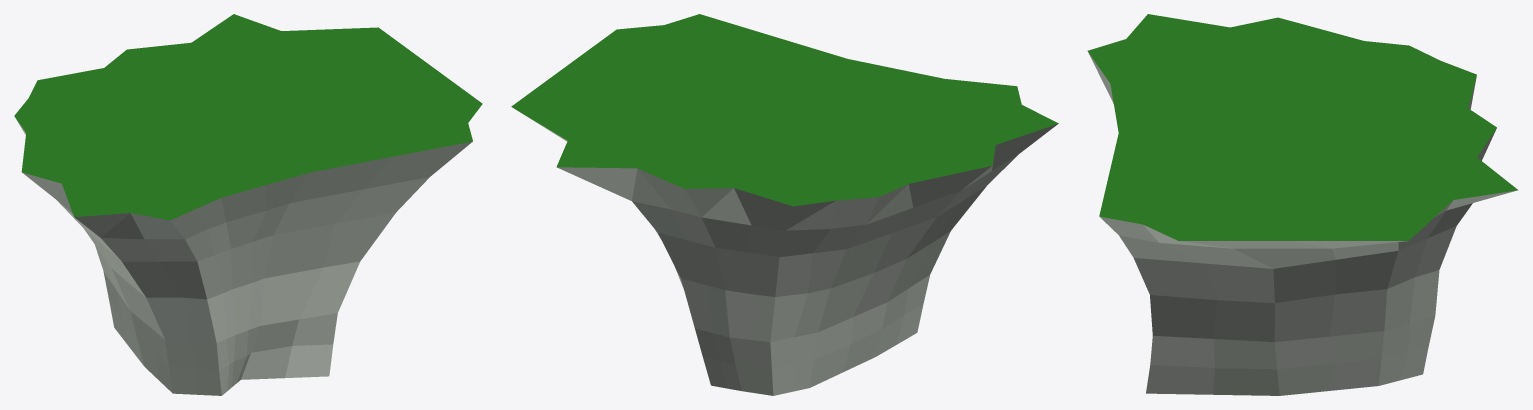
3 renders of one model, left to right at view 1: azimuth 30°, elevation 25°; view 2: azimuth 150°, elevation 25°; view 3: azimuth 270°, elevation 25°, orthographic. The views are drawn at different scales.
Visible parts, largest first — view 1: Base01; view 2: Base01; view 3: Base01.
Boxes of the visible parts, box(x1,y1,x2,y2) form: Base01: box(14, 14, 482, 395); Base01: box(511, 14, 1058, 395); Base01: box(1087, 14, 1518, 395).
Size of the model in its own units: 93.62 by 46.7 by 75.1.
